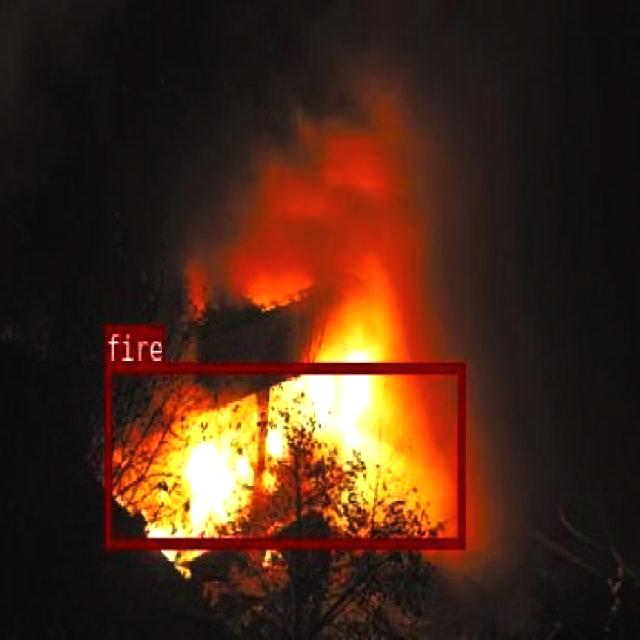fire: (104, 362, 463, 546)
